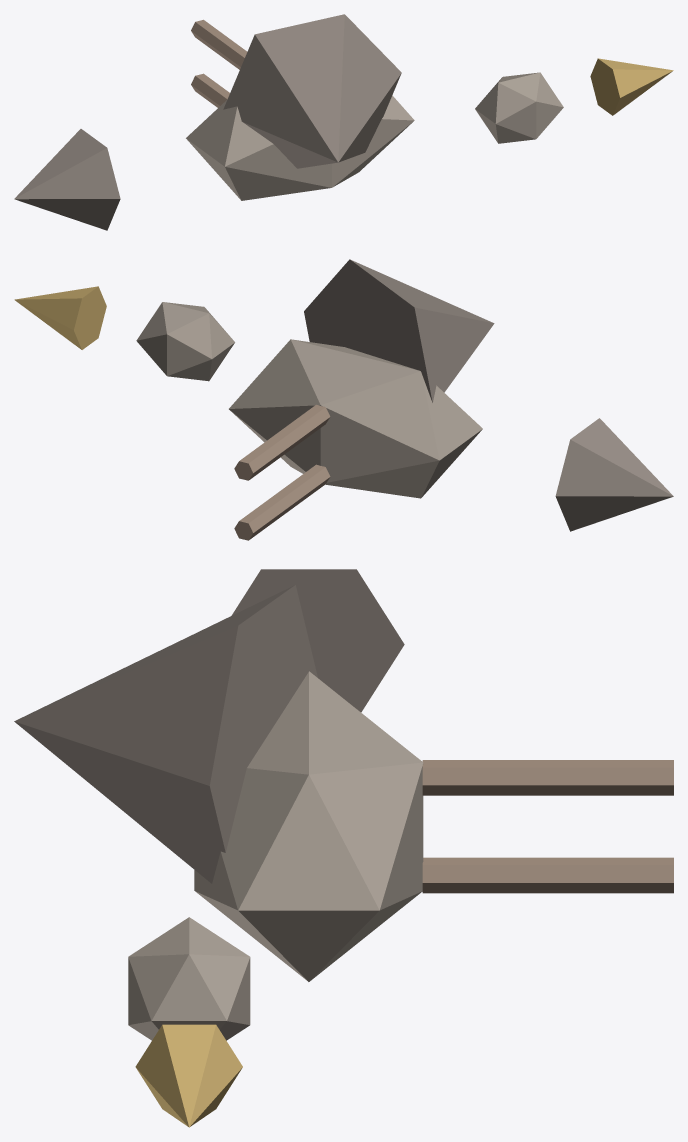
File: roadrunner.glb
The picture shows the model from 3 angles, top to bottom: view 1: azimuth 30°, elevation 25°; view 2: azimuth 150°, elevation 25°; view 3: azimuth 270°, elevation 25°; orthographic projection. The views are drawn at different scales.
Visible parts, largest first — view 1: world; view 2: world; view 3: world.
Part boxes in pixels (bbox=[...]): world: bbox=[14, 14, 673, 230]; world: bbox=[14, 259, 673, 540]; world: bbox=[14, 569, 673, 1127].
Size of the model in its own units: 2.19 by 0.603 by 1.1.
